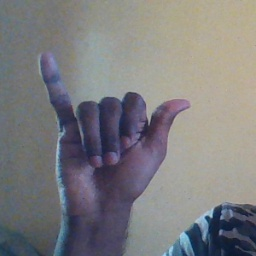J: (34, 51, 194, 205)
